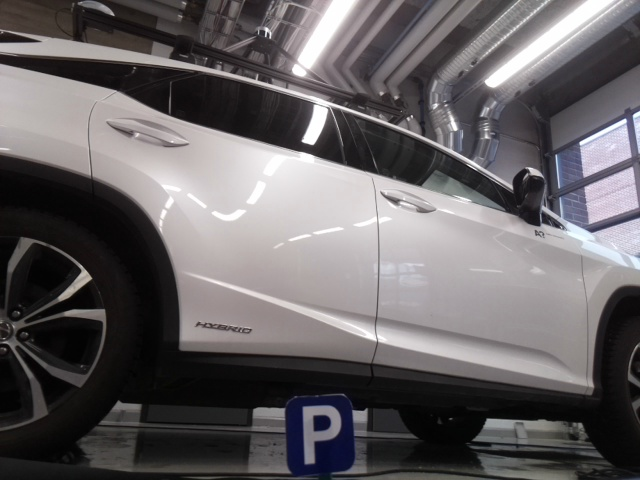Parking: (283, 395, 354, 471)
